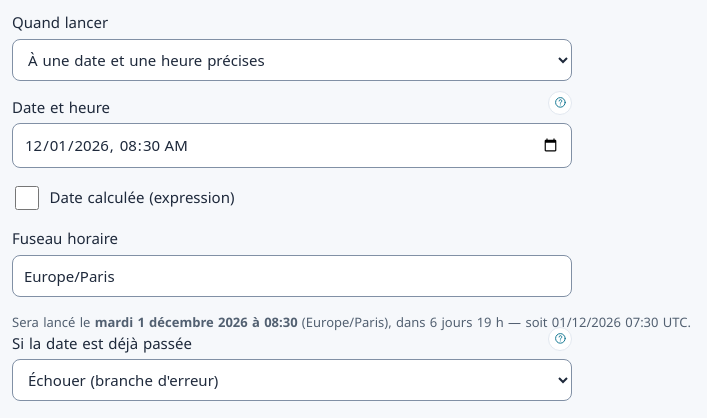
Test: Programmer : quand lancer › bascule entre date précise et délai
Select "Après un délai" in the dropdown labelled "Quand lancer". click: (292, 60)
box: [12, 38, 572, 80]
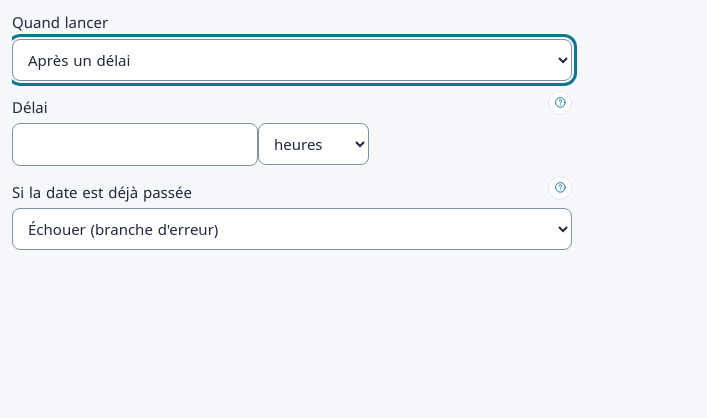
Expected: the label labelled "Fuseau horaire" is gone
Expected: the number field labelled "Délai" is shown, [12, 123, 258, 166]
